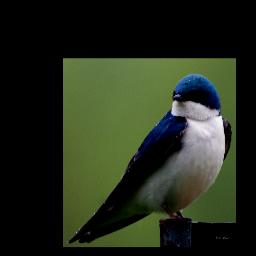Swallow: (68, 73, 232, 246)
